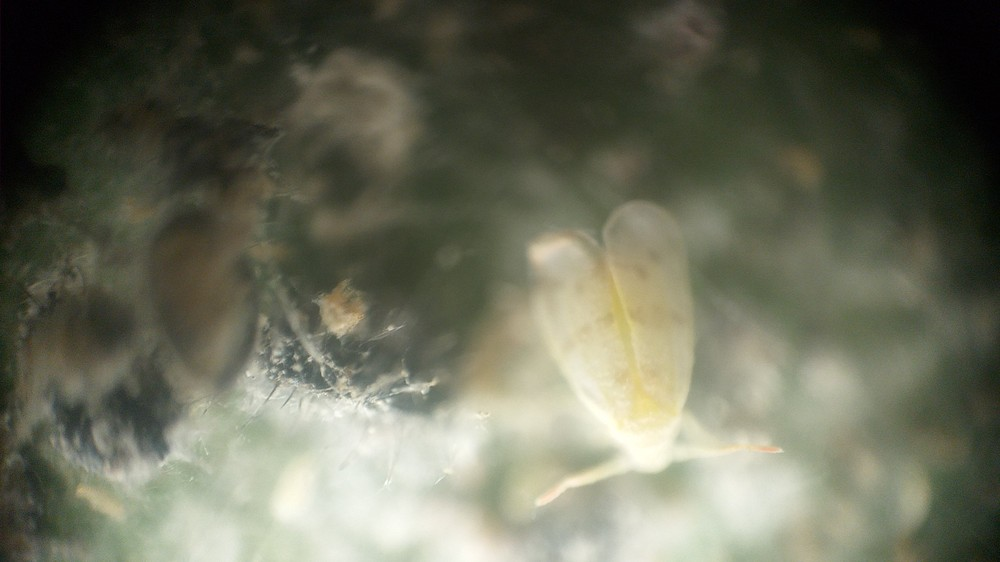Mosca Blanca: (476, 203, 815, 528)
